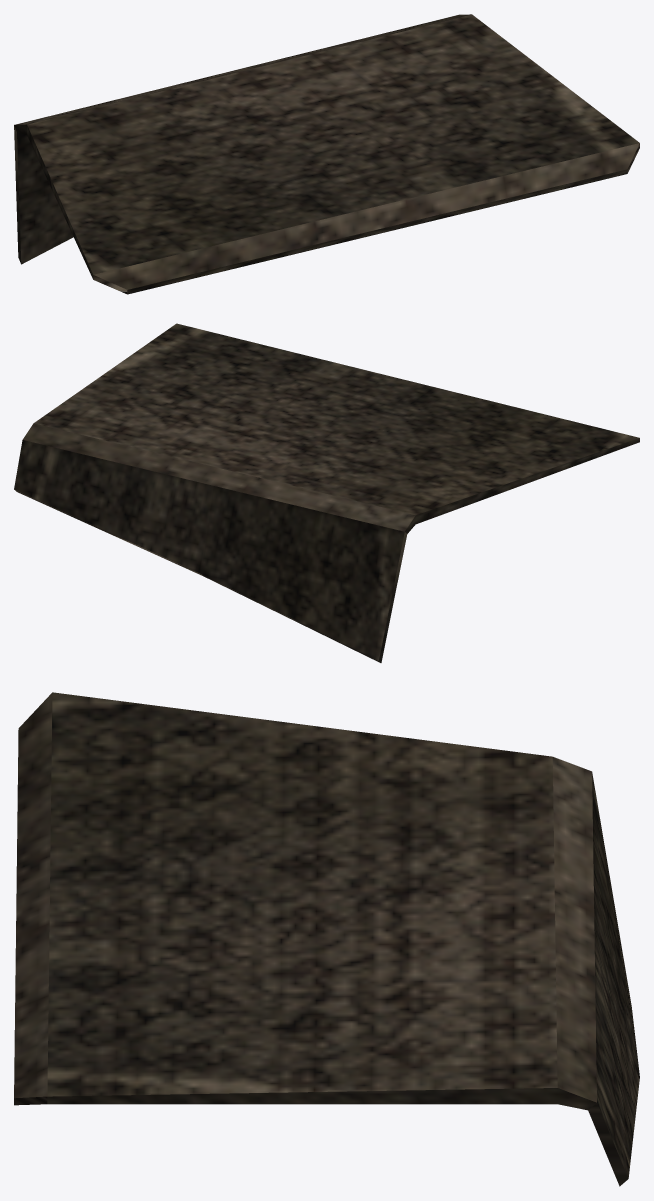
Rendered from wfwef.fbx.
3 renders of one model, top to bottom at view 1: azimuth 30°, elevation 25°; view 2: azimuth 150°, elevation 25°; view 3: azimuth 270°, elevation 25°, orthographic. The views are drawn at different scales.
Visible parts, largest first — view 1: простыня; view 2: простыня; view 3: простыня.
Boxes of the visible parts, <box> form: простыня: <box>14,14,639,294</box>; простыня: <box>14,323,639,662</box>; простыня: <box>14,692,639,1186</box>.
Bounding box in the file's own units: 394 × 111 × 258.
Materials: 1 (1 with a texture image).
